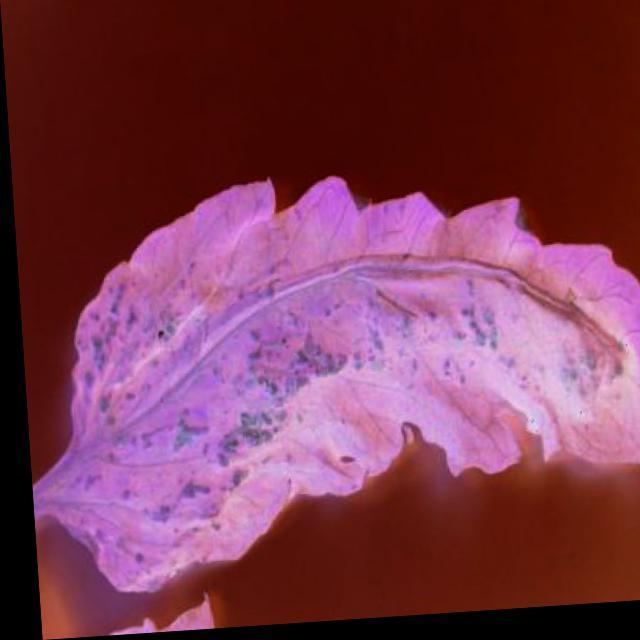Tomato mold leaf: (7, 116, 639, 617)
